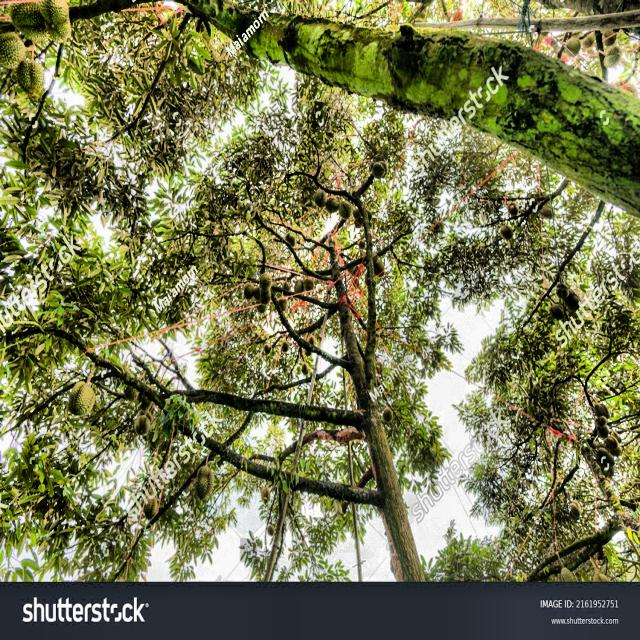arvore: (177, 0, 640, 226), (313, 226, 440, 584)
